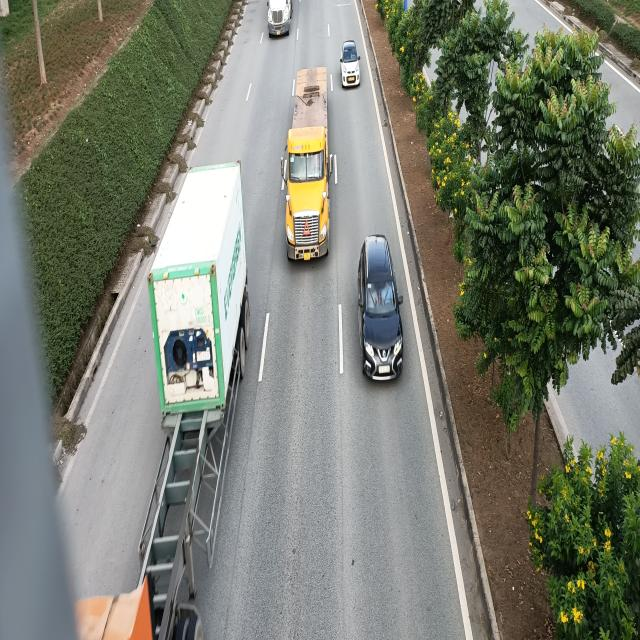car: (356, 232, 402, 380), (339, 40, 362, 87)
container: (75, 156, 248, 640), (281, 67, 334, 260), (267, 0, 295, 35)
